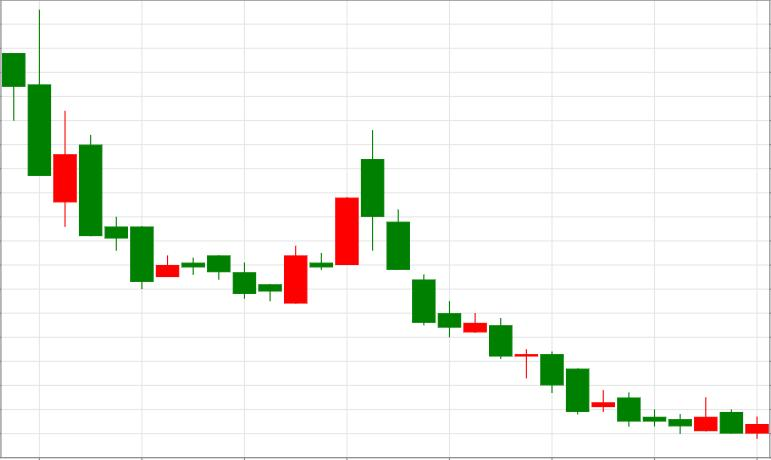three_black_crows_fall: (258, 129, 436, 325)
